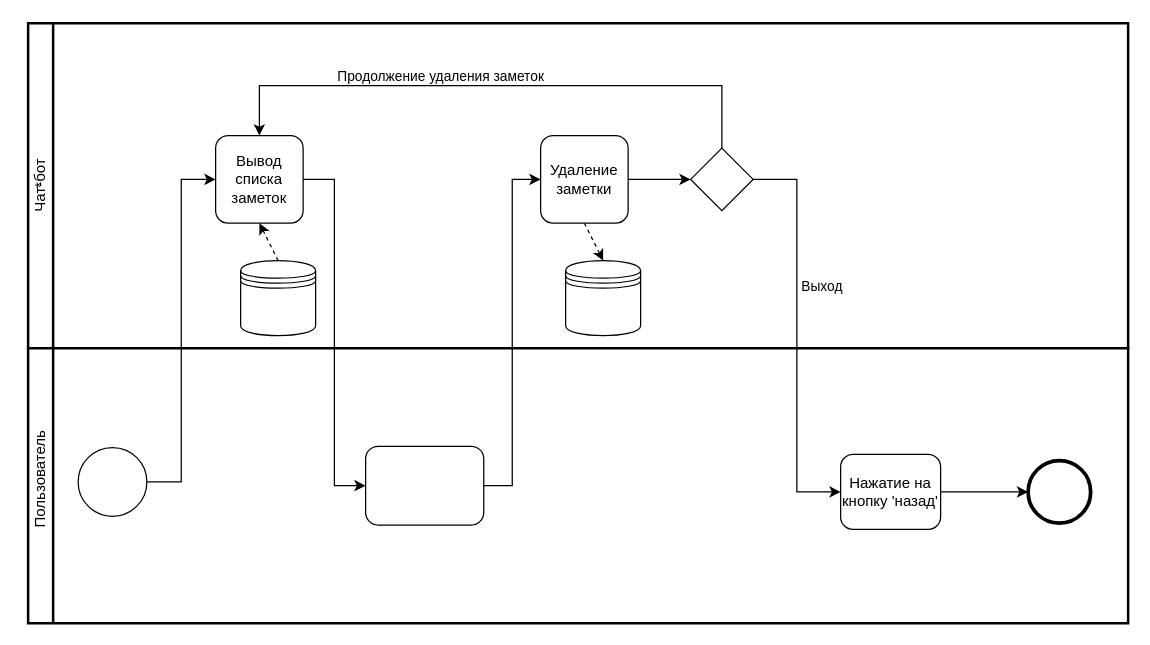
Some shapes in this 1150 by 645 pixel diagram are drawn without their labels. Here are the shapes that lost their labels. From the top down, the centre of each, then its label:
At point (112, 481): "Выбор пункта меню".
At point (424, 485): "Выбор из списка".
